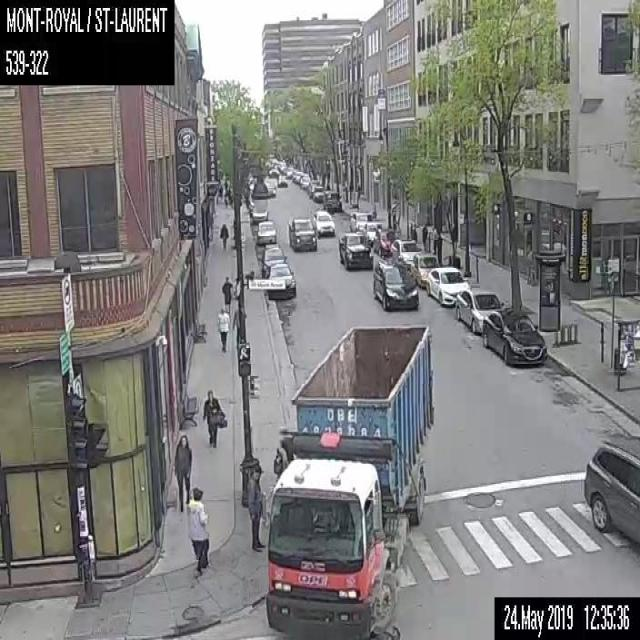pedestrian: (170, 432, 195, 511), (244, 465, 266, 552), (187, 488, 209, 574), (202, 389, 226, 448), (272, 438, 289, 482), (216, 313, 232, 352), (220, 274, 233, 312), (231, 300, 239, 351), (219, 222, 227, 250), (421, 223, 427, 252), (218, 182, 223, 201)
vehicle: (265, 323, 435, 639), (582, 435, 639, 544), (480, 307, 549, 368), (370, 257, 420, 311), (454, 289, 499, 336), (426, 266, 470, 305), (338, 231, 374, 271), (262, 263, 296, 299), (410, 253, 441, 290), (286, 216, 317, 252), (390, 238, 421, 262), (314, 207, 335, 238), (255, 218, 279, 244), (374, 229, 398, 254), (261, 240, 285, 264), (350, 208, 375, 230), (363, 221, 383, 245), (323, 188, 343, 212), (311, 185, 325, 202), (264, 179, 277, 197), (277, 170, 288, 190), (299, 176, 310, 188)
